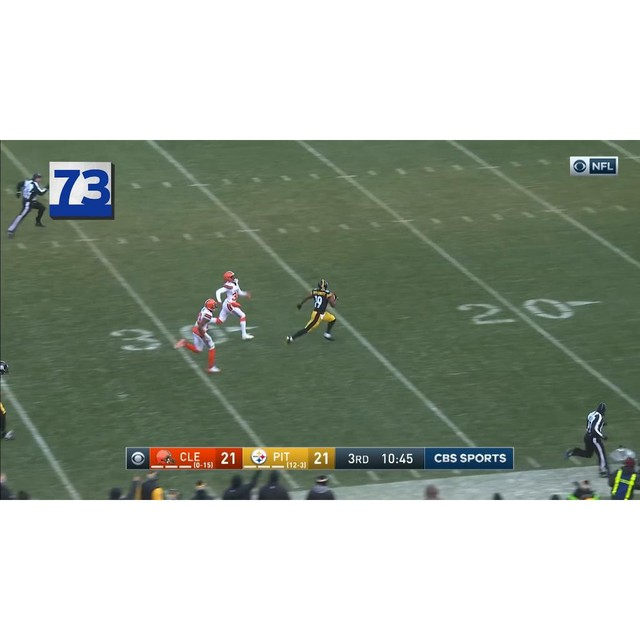american-football-player: (173, 298, 223, 372), (287, 278, 339, 345), (212, 271, 256, 341), (0, 360, 19, 442)
referee: (563, 401, 609, 476), (7, 170, 50, 237)
